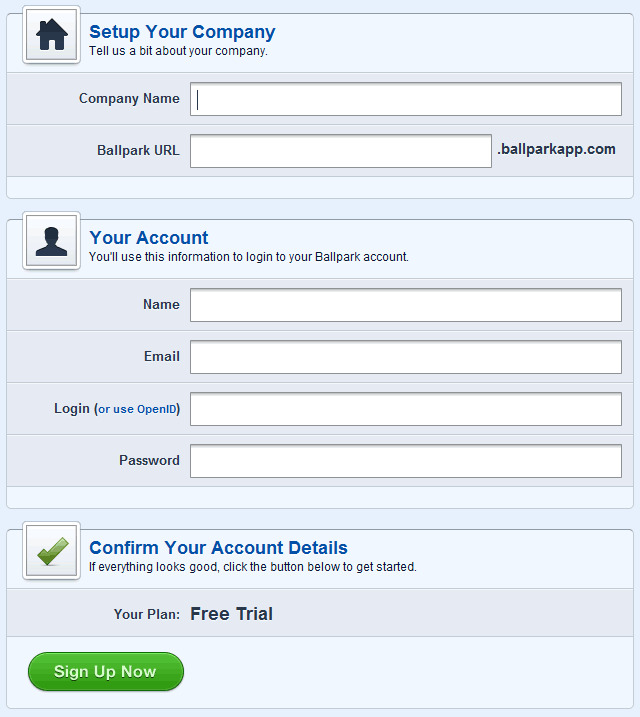_form_: (52, 71, 632, 486)
button: (26, 651, 185, 693)
field: (187, 339, 623, 376), (187, 444, 624, 480), (187, 392, 623, 427), (187, 82, 624, 116), (187, 287, 622, 321), (187, 133, 493, 169)
field_with_label: (80, 79, 627, 119), (55, 390, 626, 428), (118, 443, 626, 483), (143, 285, 625, 324), (144, 338, 625, 377), (99, 132, 495, 171)
